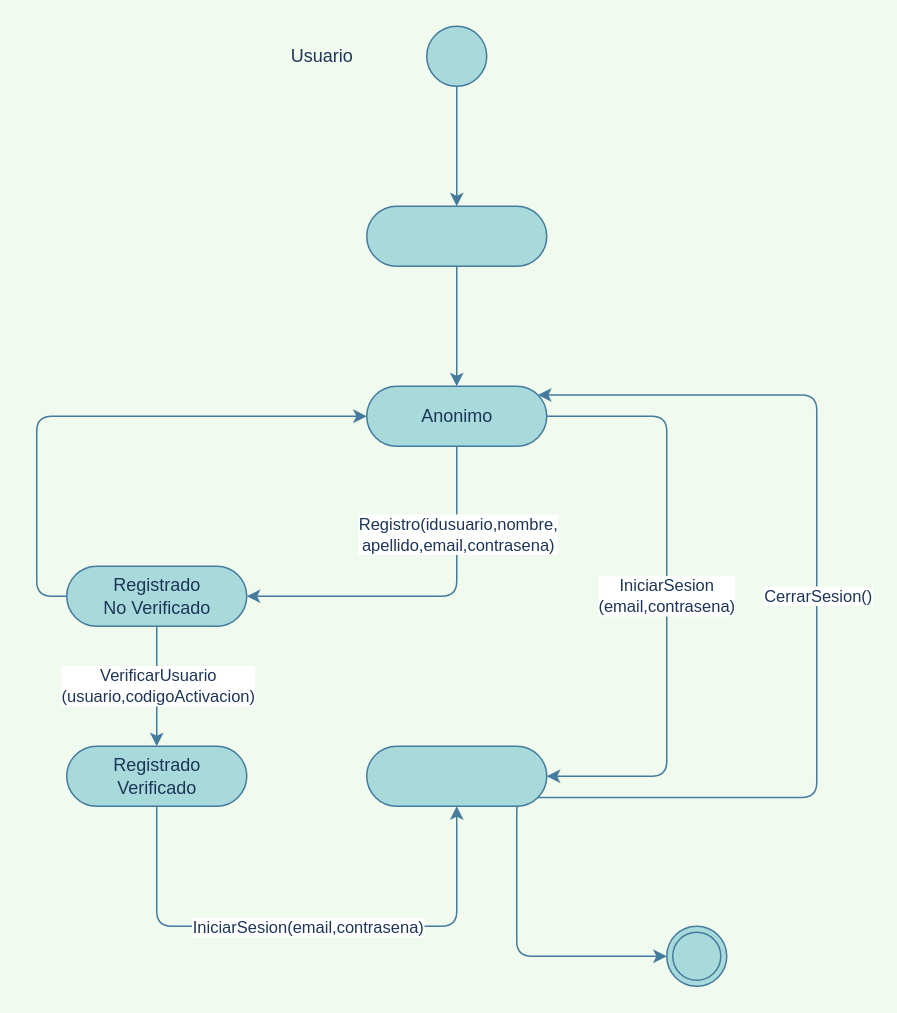
Image size: 897x1013. Some labels were removed from this diagram. Each missing label, with the centre of its shape:
Conectado: [456,235]
Iniciado: [456,775]
